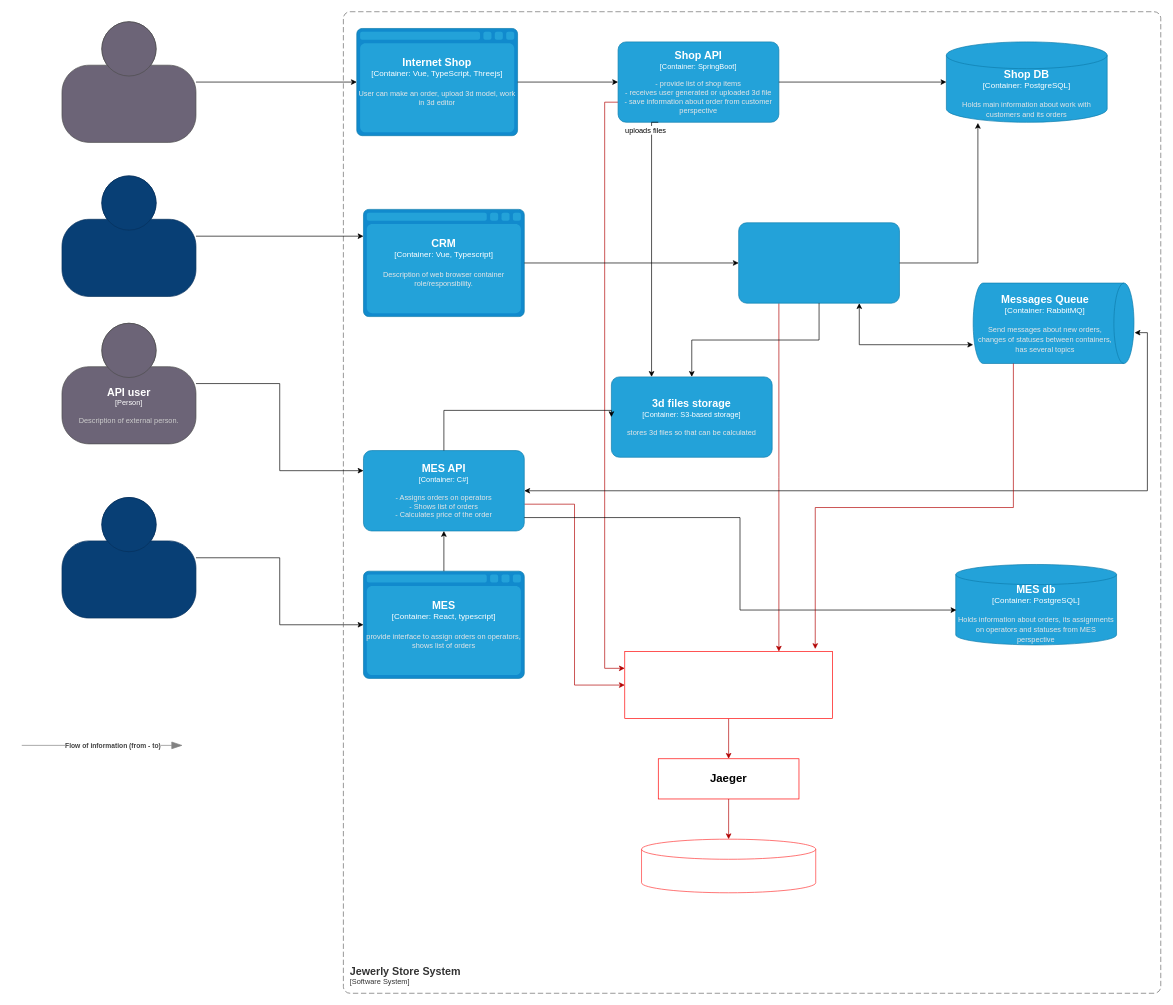
Image size: 1173x1005. Some labels were removed from this diagram. Each missing label, with the box of its shape:
CRM API [Container: SpringBoot] Description of container role/responsibility.: (738, 222, 899, 303)
Customer [Person] Description of external person.: (61, 21, 196, 142)
Elasticsearch: (641, 839, 816, 893)
OpenTelemetry Collector: (624, 651, 832, 719)
Operator [Person] Takes order in work, manufactures jewerly: (61, 497, 196, 618)
Seller [Person] Operates with order, confirms manufacturing for the user: (61, 175, 196, 296)
